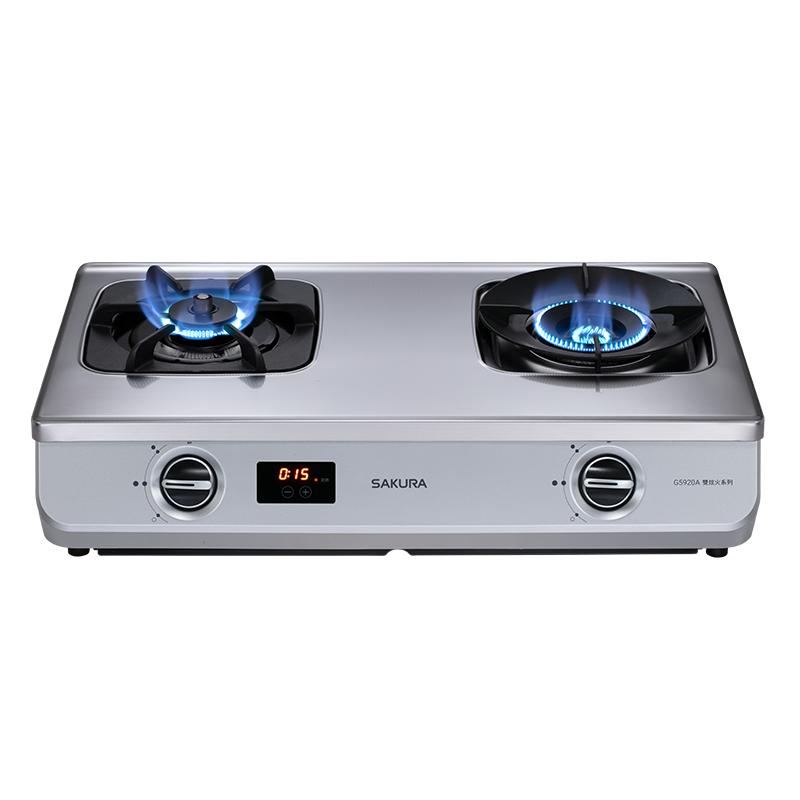gasoven: (26, 253, 767, 563)
